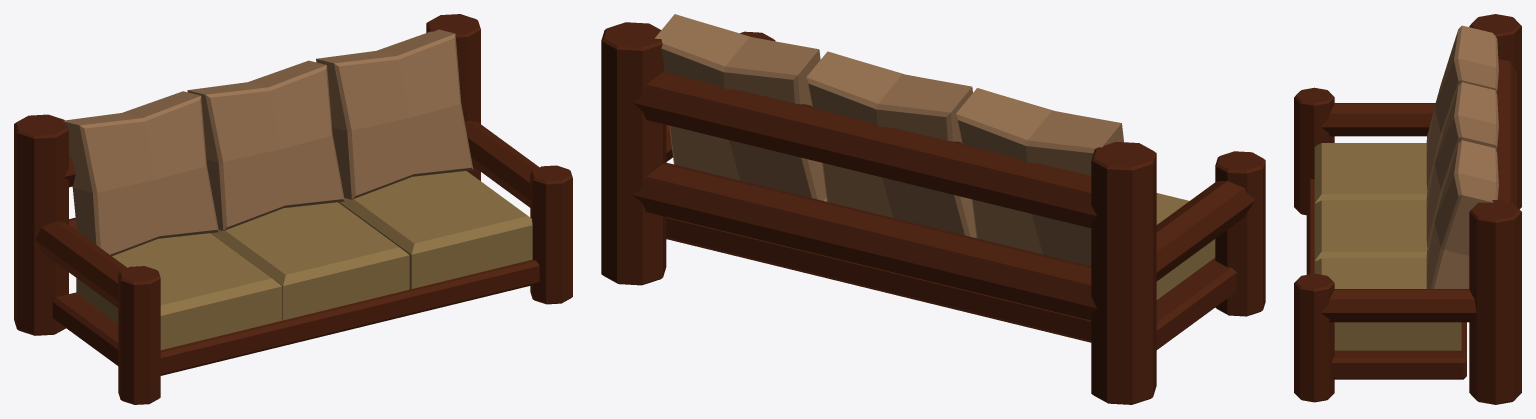
The model's file is three-seater-couch.glb.
3 views of the same model, side by side, from view 1: azimuth 30°, elevation 25°; view 2: azimuth 150°, elevation 25°; view 3: azimuth 270°, elevation 25° (orthographic). The views are drawn at different scales.
Visible parts, largest first — view 1: Pad1ThreeSeaterCouch1, ThreeSeaterCouch1, Pad4ThreeSeaterCouch1; view 2: ThreeSeaterCouch1, Pad1ThreeSeaterCouch1, Pad4ThreeSeaterCouch1; view 3: ThreeSeaterCouch1, Pad4ThreeSeaterCouch1, Pad1ThreeSeaterCouch1.
Boxes of the visible parts, box(x1,y1,x2,y2) form: Pad1ThreeSeaterCouch1: box(62, 29, 473, 255); ThreeSeaterCouch1: box(14, 14, 572, 404); Pad4ThreeSeaterCouch1: box(76, 171, 532, 350); ThreeSeaterCouch1: box(601, 22, 1265, 404); Pad1ThreeSeaterCouch1: box(655, 14, 1123, 265); Pad4ThreeSeaterCouch1: box(824, 193, 1215, 299); ThreeSeaterCouch1: box(1294, 14, 1521, 404); Pad4ThreeSeaterCouch1: box(1314, 143, 1461, 350); Pad1ThreeSeaterCouch1: box(1426, 25, 1498, 288).
Bounding box in the file's own units: 2.56 × 1.1 × 1.18.
